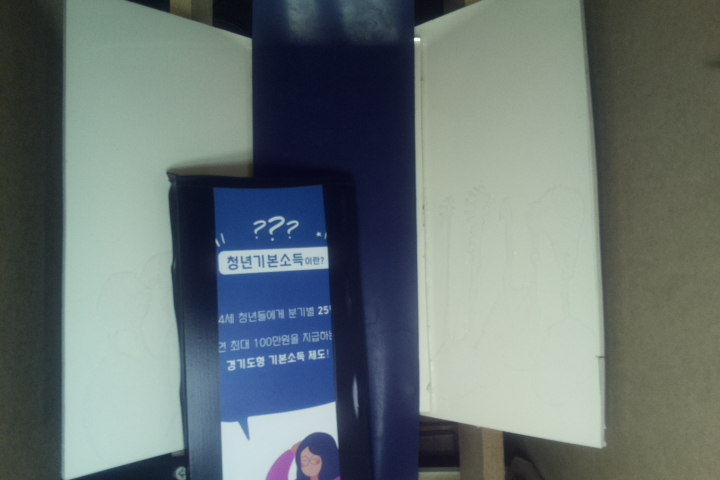book: (168, 170, 374, 480)
